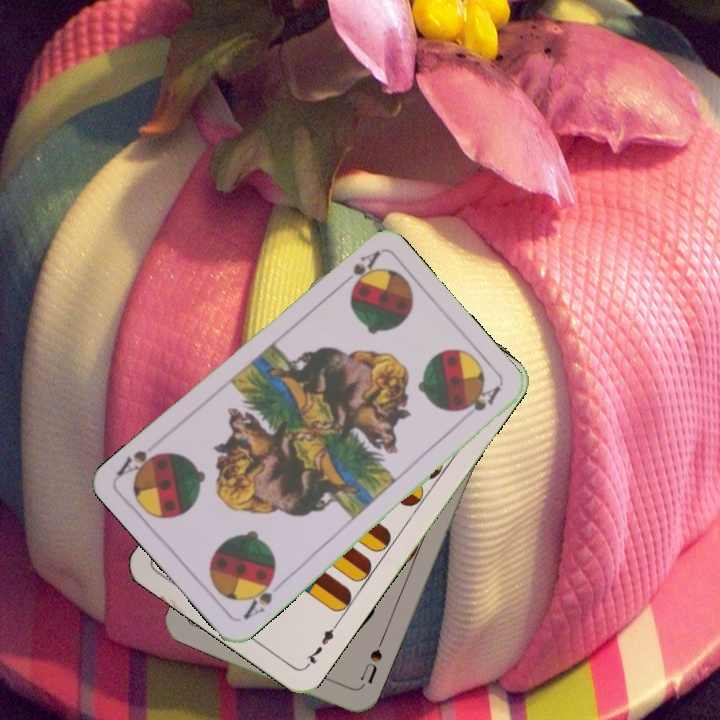E7: (301, 619, 341, 670)
SA: (333, 247, 382, 291), (239, 571, 278, 622)
SU: (356, 645, 385, 687)
